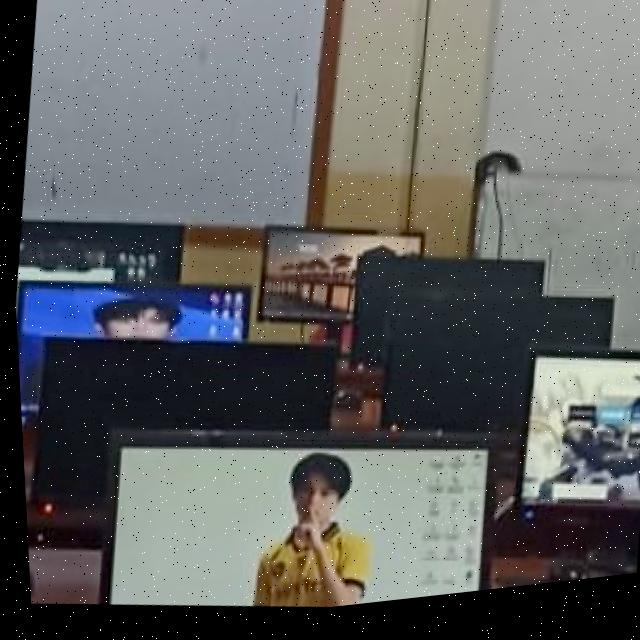offscreen: (29, 341, 330, 502), (378, 298, 608, 444), (347, 260, 544, 370)
onscreen: (94, 434, 481, 614), (14, 285, 245, 412), (518, 369, 640, 517), (254, 233, 419, 328), (16, 222, 179, 285)
